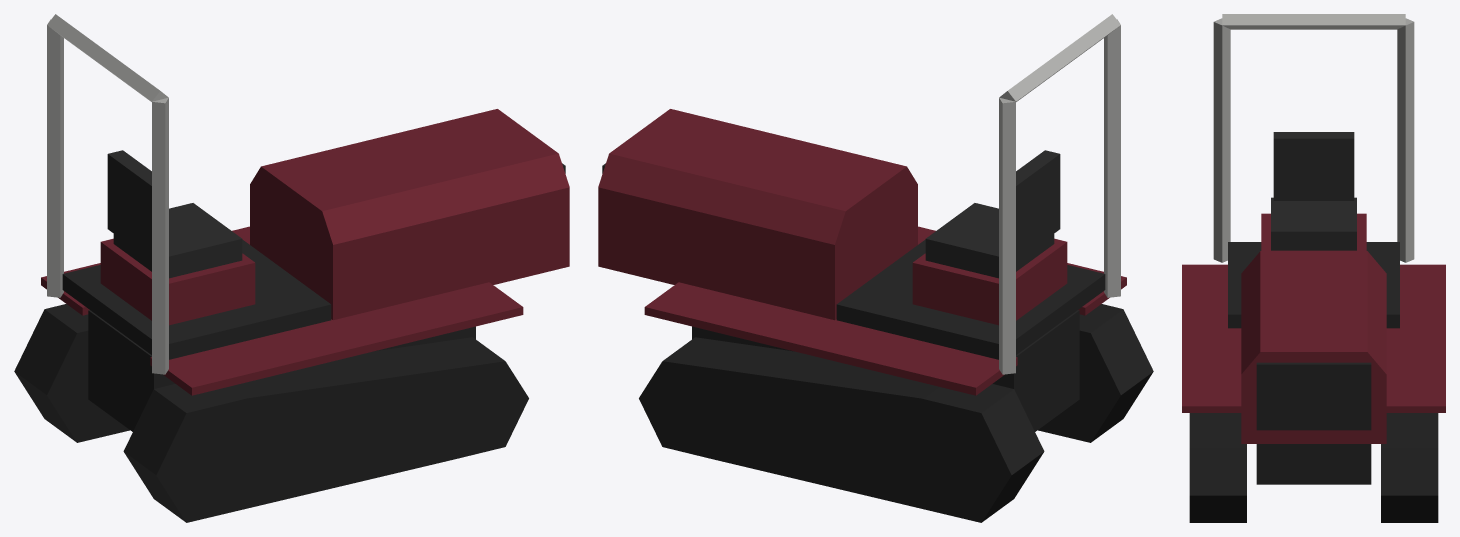
The model's file is SM_Prop_farm_crawler_1_LOD2.glb.
3 renders of one model, left to right at view 1: azimuth 30°, elevation 25°; view 2: azimuth 150°, elevation 25°; view 3: azimuth 270°, elevation 25°, orthographic. The views are drawn at different scales.
Parts seen in each view (by area): view 1: SM_Prop_farm_crawler_1_LOD2; view 2: SM_Prop_farm_crawler_1_LOD2; view 3: SM_Prop_farm_crawler_1_LOD2.
Boxes of the visible parts, left/top/right/bottom form: SM_Prop_farm_crawler_1_LOD2: left=14, top=14, right=569, bottom=522; SM_Prop_farm_crawler_1_LOD2: left=598, top=14, right=1153, bottom=522; SM_Prop_farm_crawler_1_LOD2: left=1182, top=14, right=1445, bottom=522.
Bounding box in the file's own units: 2.36 × 2.13 × 1.38.
